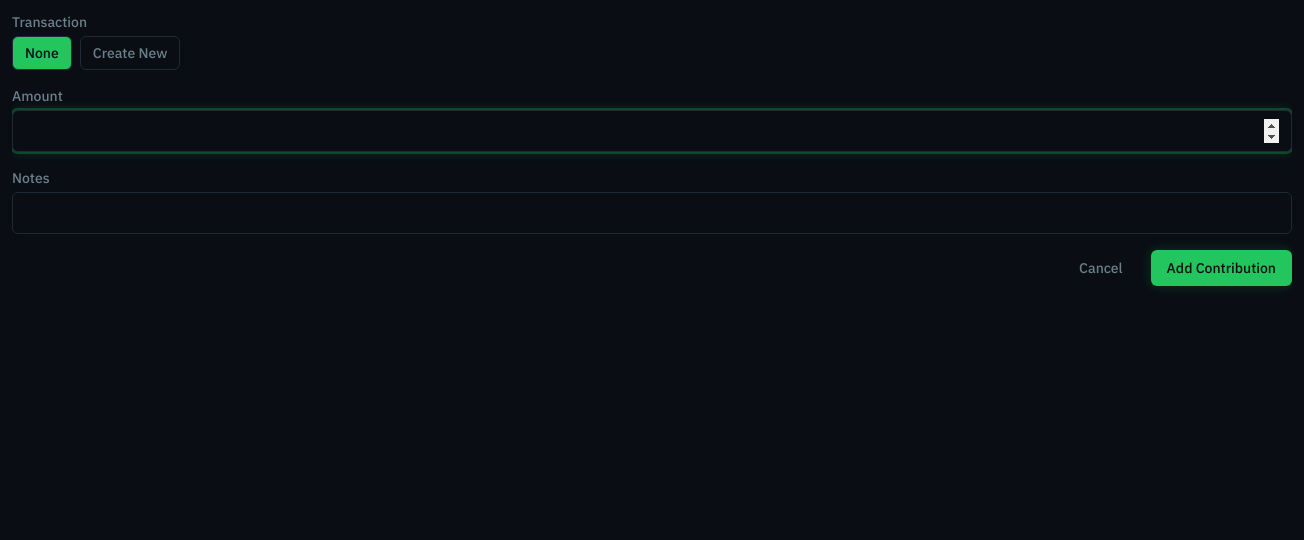
ContributeForm › shows account, category, and date fields when Create New is clicked
The image size is (1304, 540).
Click the button "Create New" at [130, 53], box [80,36,180,70]
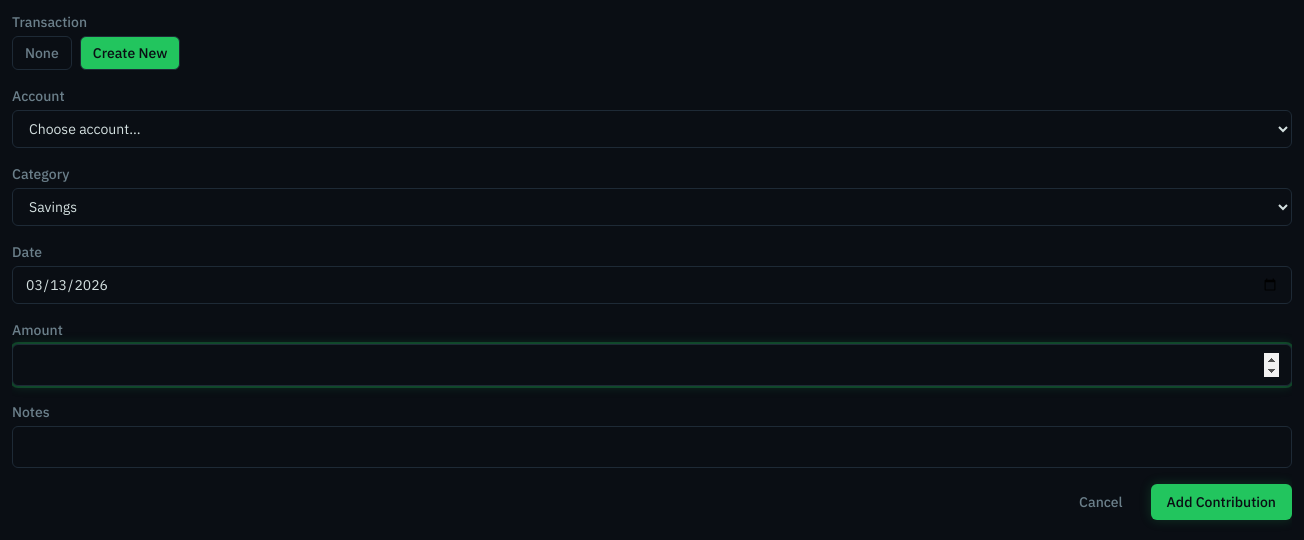
Check: the dropdown labelled "Account" is shown, box [12,110,1292,148]
Check: the dropdown labelled "Category" is shown, box [12,188,1292,226]
Check: the date field labelled "Date" is shown, box [12,266,1292,304]
